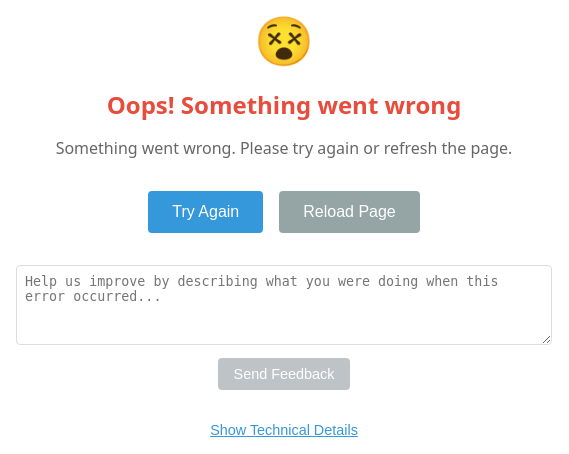
Test: Error Handling System › ErrorBoundary › should show feedback form
Expected: the button "Send Feedback" is disabled, [218,358,350,390]
Replace the text in the text box with placeholder "Help us improve" with "Test feedback": [284, 305] box [16,265,552,345]
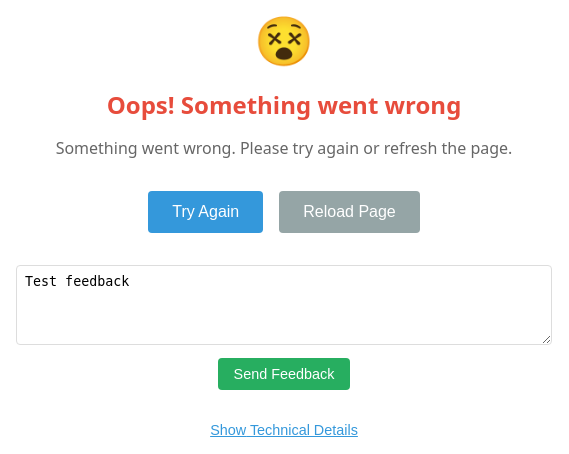
Result: the button "Send Feedback" is enabled at [218,358,350,390]
